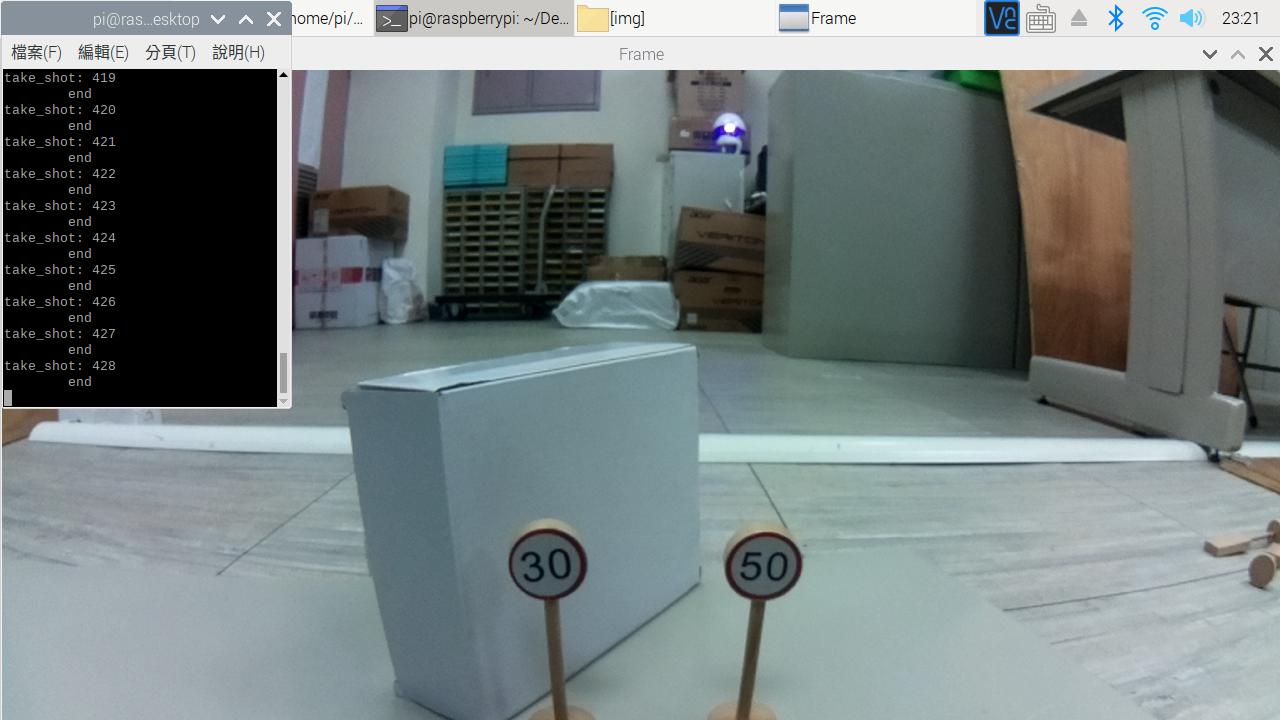Speed30: (494, 516, 595, 612)
Speed50: (716, 525, 817, 614)
